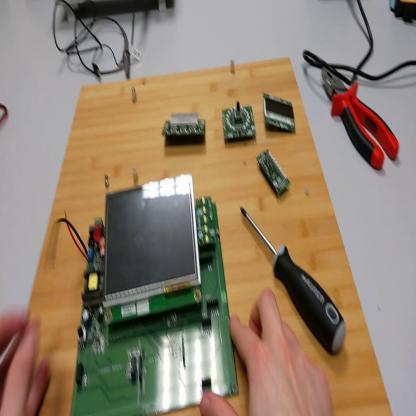hand: (200, 289, 336, 415), (1, 309, 50, 416)
low voltage board: (44, 173, 238, 416)
oscilloscope: (61, 2, 172, 27)
oscilloscope probe tip: (123, 31, 132, 81)
pliers: (322, 68, 400, 172)
screwdriver-: (242, 207, 348, 358)
welder base: (391, 2, 416, 26)
working area: (26, 56, 395, 416)
